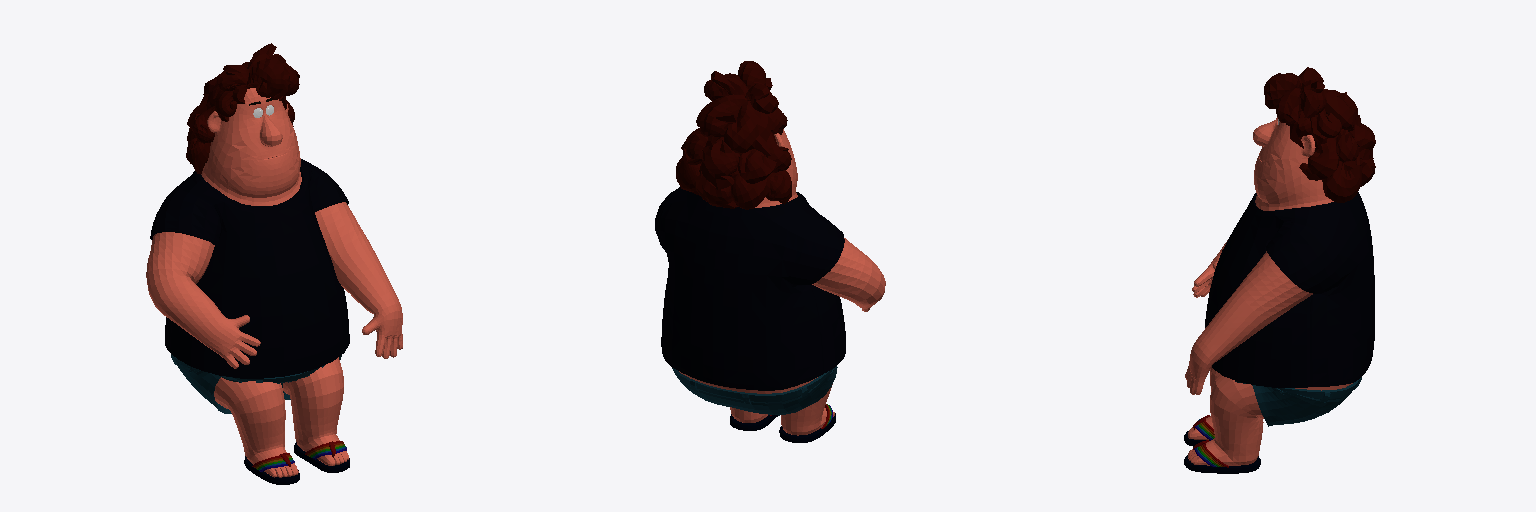
The model's file is phil.obj.
The picture shows the model from 3 angles: view 1: azimuth 30°, elevation 25°; view 2: azimuth 150°, elevation 25°; view 3: azimuth 270°, elevation 25°; orthographic projection.
Visible parts, largest first — view 1: GEO-phil_shirt, GEO-phil_arms, GEO-phil_body, GEO-phil_head, GEO-phil_hair.mesh, GEO-phil_flippers, GEO-phil_pants; view 2: GEO-phil_shirt, GEO-phil_hair.mesh, GEO-phil_pants, GEO-phil_arms, GEO-phil_body, GEO-phil_flippers, GEO-phil_head; view 3: GEO-phil_shirt, GEO-phil_hair.mesh, GEO-phil_arms, GEO-phil_head, GEO-phil_body, GEO-phil_pants, GEO-phil_flippers.
Boxes of the visible parts, x1,y1,x2,y2 form: GEO-phil_shirt: [150, 159, 349, 378]; GEO-phil_arms: [146, 202, 402, 368]; GEO-phil_body: [214, 357, 348, 477]; GEO-phil_head: [201, 88, 301, 205]; GEO-phil_hair.mesh: [186, 43, 299, 173]; GEO-phil_flippers: [244, 441, 349, 484]; GEO-phil_pants: [171, 354, 324, 407]; GEO-phil_shirt: [655, 187, 845, 390]; GEO-phil_hair.mesh: [676, 61, 791, 209]; GEO-phil_pants: [672, 368, 834, 415]; GEO-phil_arms: [812, 238, 885, 311]; GEO-phil_body: [679, 371, 834, 435]; GEO-phil_flippers: [730, 404, 835, 442]; GEO-phil_head: [755, 129, 797, 207]; GEO-phil_shirt: [1205, 192, 1374, 387]; GEO-phil_hair.mesh: [1264, 67, 1375, 202]; GEO-phil_arms: [1185, 240, 1312, 394]; GEO-phil_head: [1253, 117, 1333, 210]; GEO-phil_body: [1188, 367, 1352, 465]; GEO-phil_pants: [1235, 377, 1361, 424]; GEO-phil_flippers: [1184, 415, 1260, 473].
Bounding box in the file's own units: 0.8376 × 1.41 × 0.6406.